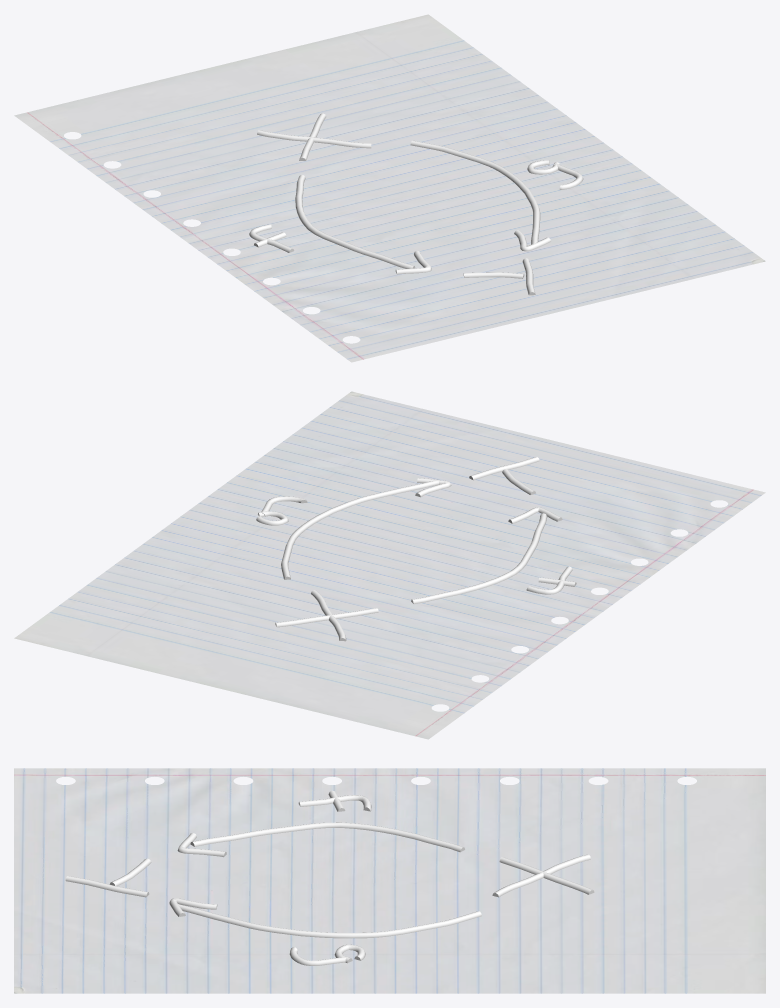
The model's file is notebook_equalizer.glb.
3 renders of one model, top to bottom at view 1: azimuth 30°, elevation 25°; view 2: azimuth 150°, elevation 25°; view 3: azimuth 270°, elevation 25°, orthographic. The views are drawn at different scales.
Parts seen in each view (by area): view 1: Paper, Drawing; view 2: Paper, Drawing; view 3: Paper, Drawing.
Boxes of the visible parts, x1,y1,x2,y2 form: Paper: (14,14,765,362); Drawing: (249,113,583,295); Paper: (14,391,765,739); Drawing: (256,457,576,641); Paper: (14,768,765,993); Drawing: (65,790,594,965).
Size of the model in its own units: 2 by 0.03 by 2.82.
2 materials, 1 textured.
